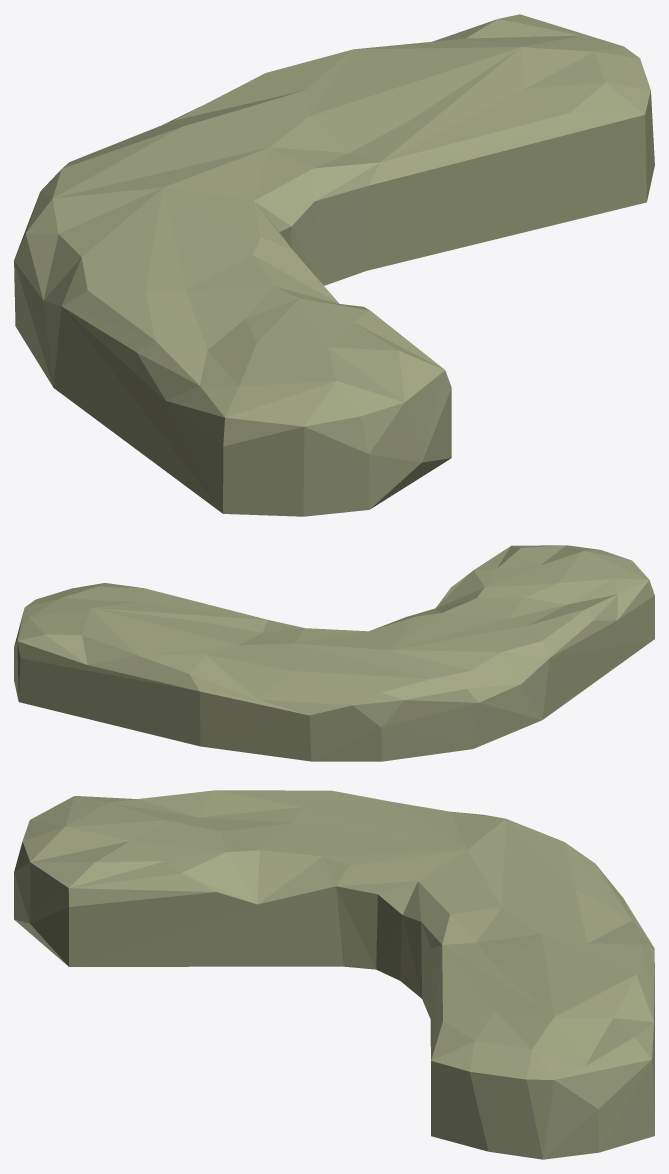
Rendered from road1.fbx.
3 renders of one model, top to bottom at view 1: azimuth 30°, elevation 25°; view 2: azimuth 150°, elevation 25°; view 3: azimuth 270°, elevation 25°, orthographic. The views are drawn at different scales.
Visible parts, largest first — view 1: road1; view 2: road1; view 3: road1.
Boxes of the visible parts, bbox=[...] form: road1: bbox=[14, 14, 654, 516]; road1: bbox=[14, 545, 654, 761]; road1: bbox=[14, 790, 654, 1159].
Size of the model in its own units: 410 by 64.75 by 386.
Materials: 1 (1 with a texture image).
